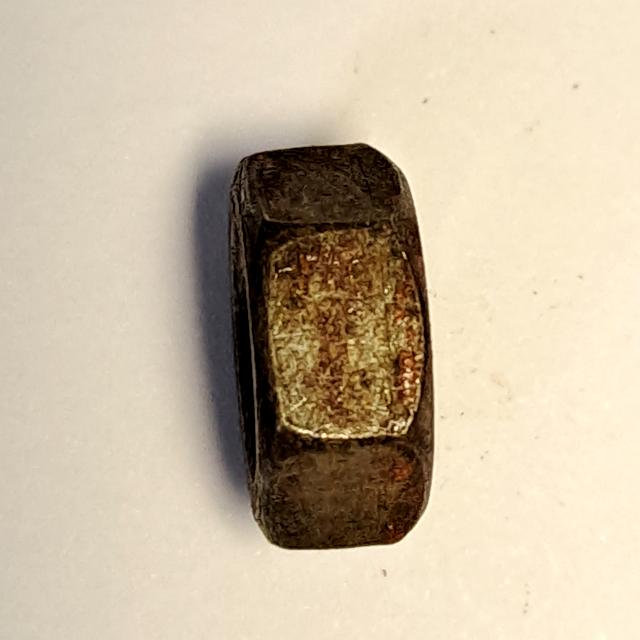Side_Rust: (211, 135, 454, 566)
